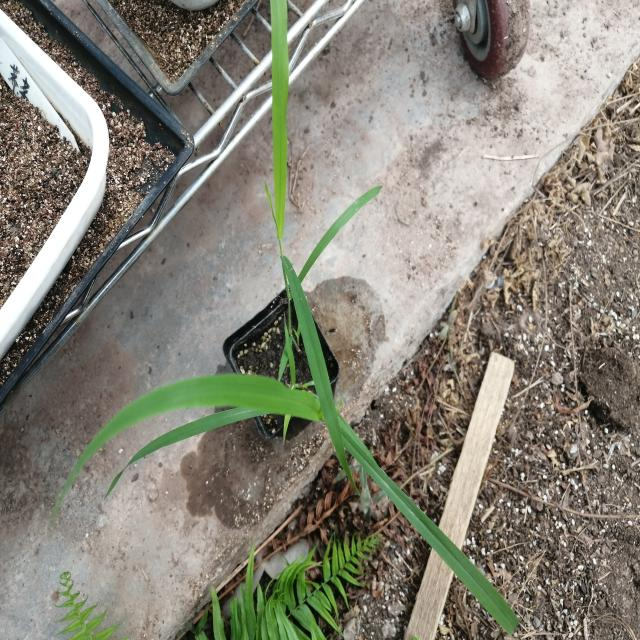crabgrass: (110, 307, 466, 578), (239, 0, 372, 474)
